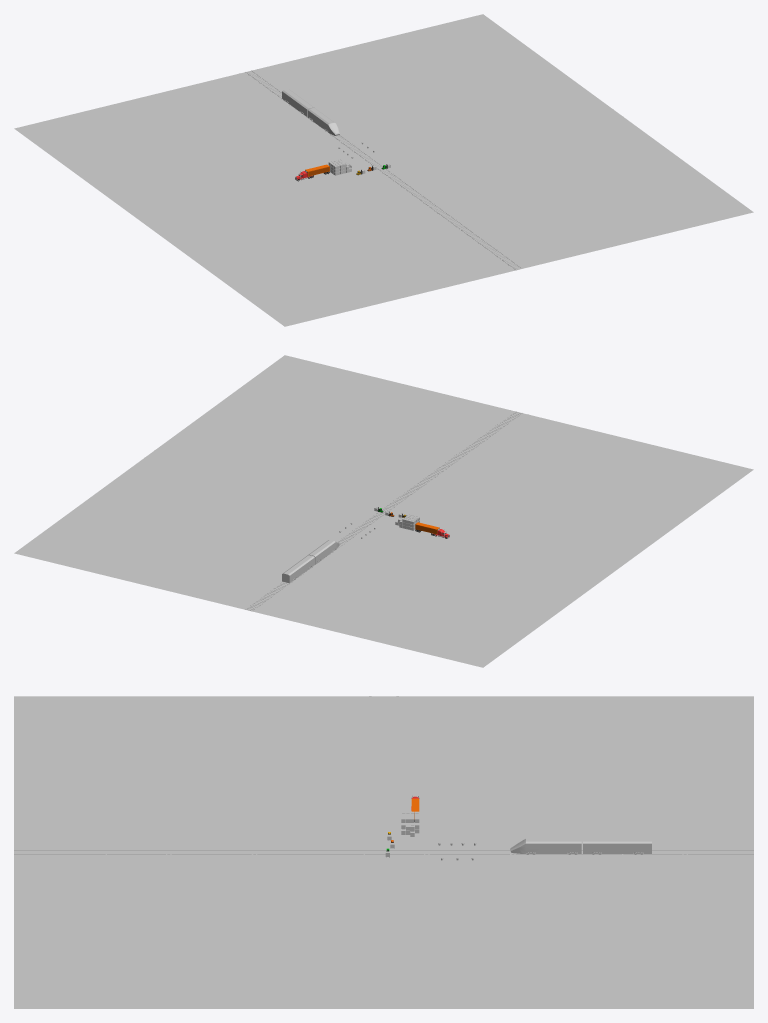
File: changjing4_4.fbx
3 renders of one model, top to bottom at view 1: azimuth 30°, elevation 25°; view 2: azimuth 150°, elevation 25°; view 3: azimuth 270°, elevation 25°, orthographic. The views are drawn at different scales.
Visible parts, largest first — view 1: changjing4_3, huochedao5, huoche4; view 2: changjing4_3, huochedao5, huoche4; view 3: changjing4_3, huochedao5, huoche4.
Part boxes in pixels (x1,y1,x2,y2): changjing4_3: (14,14,753,326); huochedao5: (245,70,522,270); huoche4: (282,89,339,135); changjing4_3: (14,355,753,667); huochedao5: (245,411,522,611); huoche4: (282,540,339,583); changjing4_3: (14,696,753,1008); huochedao5: (14,850,753,854); huoche4: (510,838,651,854).
Bounding box in the file's own units: 34371 × 651 × 34371.
